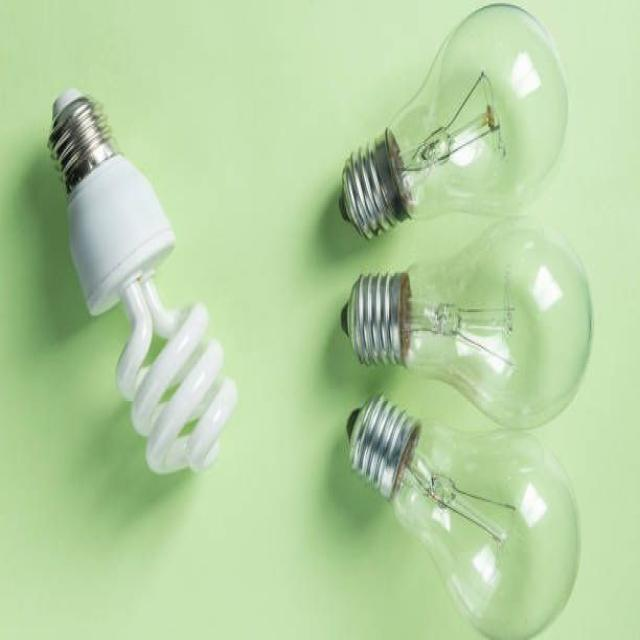electronic: (46, 85, 237, 475), (345, 391, 580, 638), (338, 0, 569, 240), (340, 215, 593, 430)
